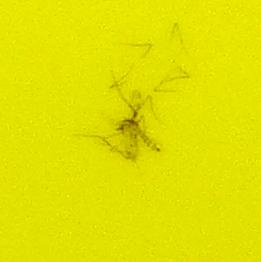Nematocera: (100, 100, 161, 162)
